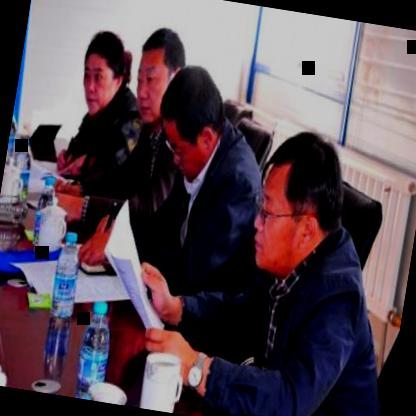head: (247, 119, 350, 281), (152, 60, 233, 185), (128, 19, 192, 124), (71, 22, 133, 120)
